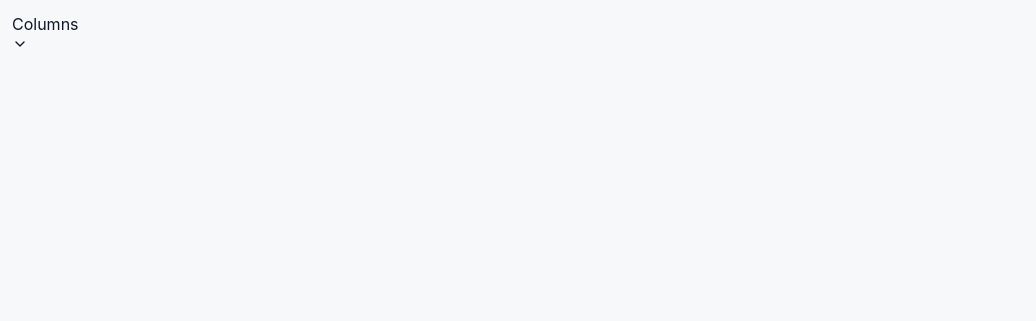
Test: ColumnChooser › menu interaction › opens menu when button is clicked
Click the button "Columns". click: (45,32)
box: [12,12,78,52]
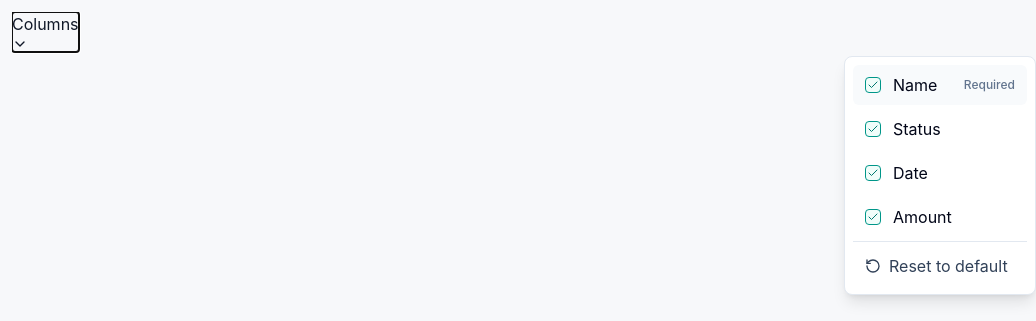
Check: the menu is shown, box [844,56,1035,295]
